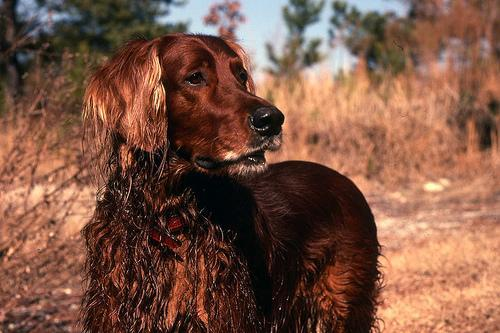Irish_setter: (82, 31, 382, 332)
